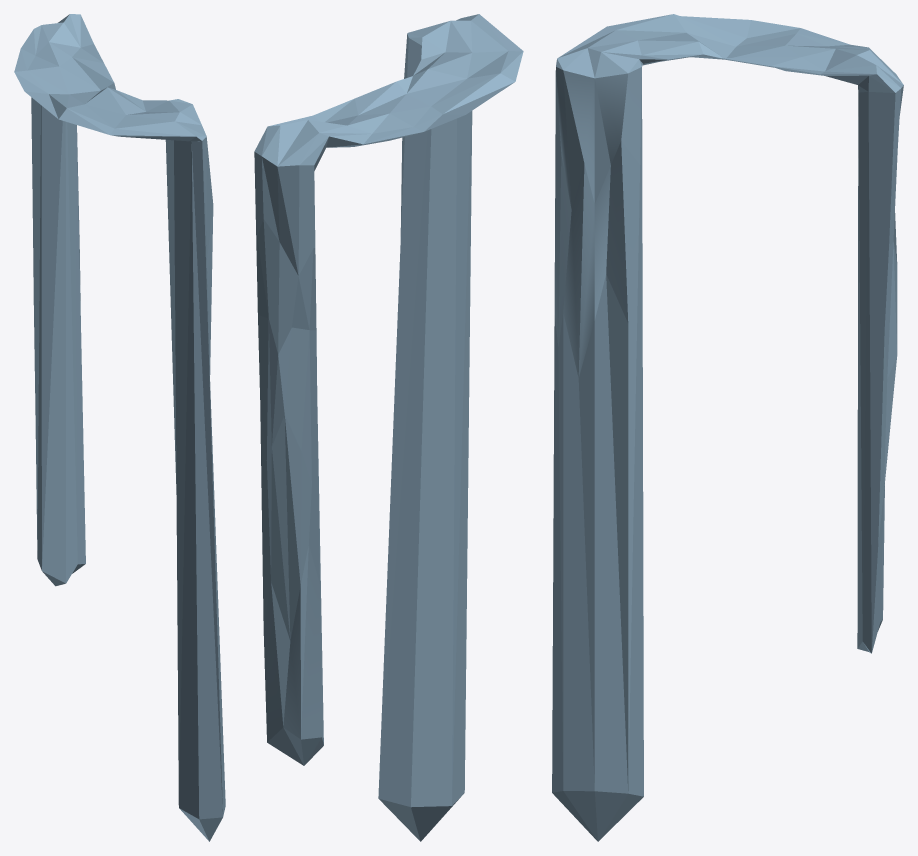
Rendered from water02.fbx.
The picture shows the model from 3 angles, left to right: view 1: azimuth 30°, elevation 25°; view 2: azimuth 150°, elevation 25°; view 3: azimuth 270°, elevation 25°; orthographic projection. The views are drawn at different scales.
Parts seen in each view (by area): view 1: pCylinder2; view 2: pCylinder2; view 3: pCylinder2.
Part boxes in pixels (box(x1,y1,x2,y2)): pCylinder2: box(14, 14, 225, 841); pCylinder2: box(254, 14, 523, 841); pCylinder2: box(552, 14, 903, 841).
Bounding box in the file's own units: 0.1875 × 0.9826 × 0.4041.
